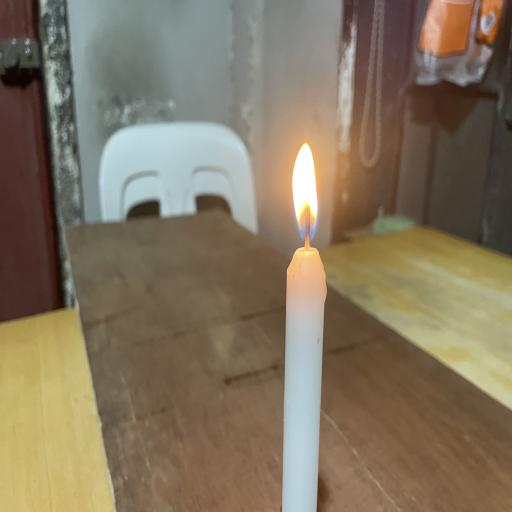fire: (279, 137, 325, 248)
